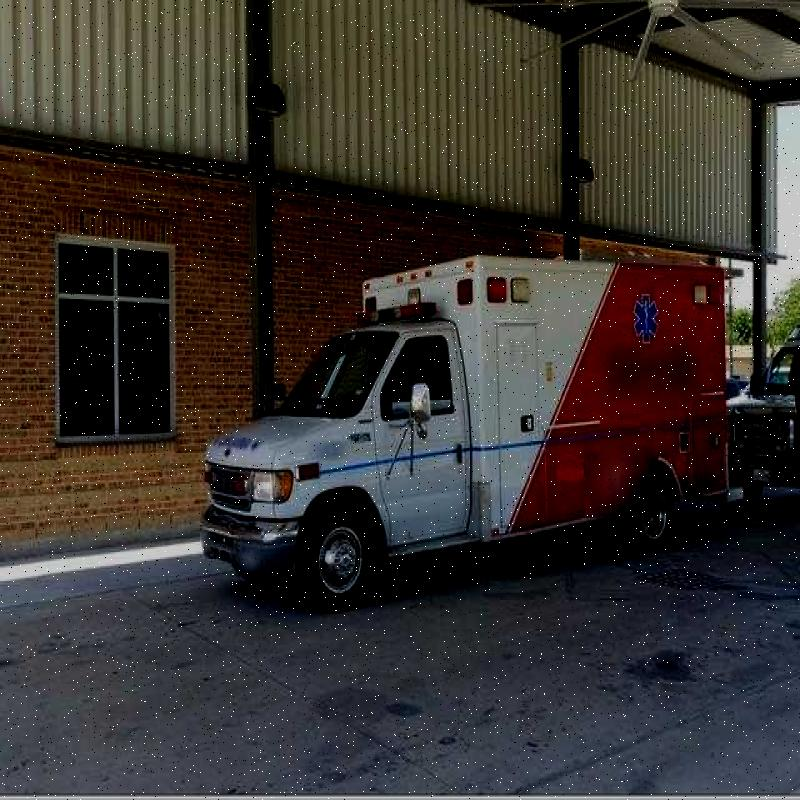AmbulanceSiren: (348, 289, 449, 335)
